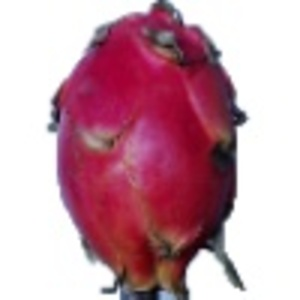pitaia: (47, 1, 250, 300)
